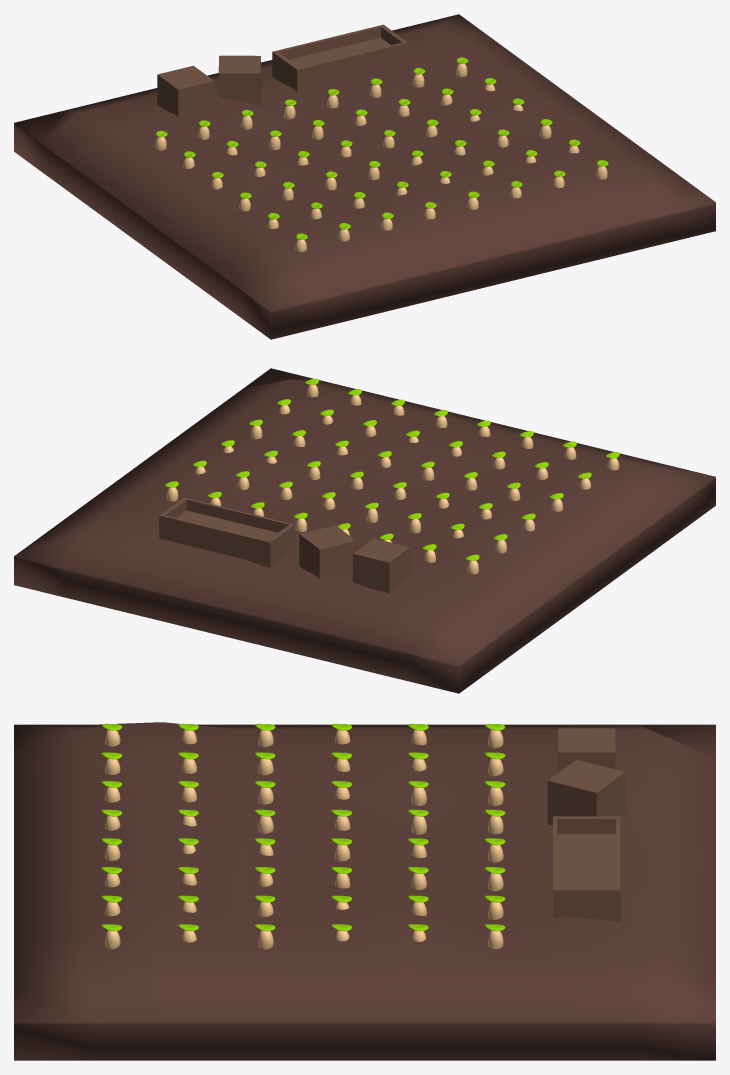
The model's file is ThePotatoFarm.fbx.
3 views of the same model, one above another, from view 1: azimuth 30°, elevation 25°; view 2: azimuth 150°, elevation 25°; view 3: azimuth 270°, elevation 25° (orthographic). The views are drawn at different scales.
Visible parts, largest first — view 1: Plane.017, Plane.006, Cube.007, Cube.005, Cube.006; view 2: Plane.017, Plane.006, Cube.007, Cube.005, Cube.006; view 3: Plane.017, Plane.006, Cube.007, Cube.006, Cube.005.
Part boxes in pixels (x1=…): Plane.017: x1=14, y1=14, x2=715, y2=339; Plane.006: x1=155, y1=57, x2=608, y2=251; Cube.007: x1=272, y1=24, x2=408, y2=91; Cube.005: x1=157, y1=65, x2=214, y2=116; Cube.006: x1=218, y1=55, x2=260, y2=105; Plane.017: x1=14, y1=368, x2=715, y2=693; Plane.006: x1=165, y1=378, x2=619, y2=574; Cube.007: x1=159, y1=497, x2=295, y2=567; Cube.005: x1=353, y1=538, x2=410, y2=593; Cube.006: x1=299, y1=525, x2=356, y2=578; Plane.017: x1=14, y1=722, x2=715, y2=1060; Plane.006: x1=101, y1=723, x2=505, y2=949; Cube.007: x1=553, y1=816, x2=620, y2=921; Cube.006: x1=547, y1=760, x2=625, y2=825; Cube.005: x1=558, y1=728, x2=615, y2=772.
Size of the model in its own units: 2457 by 412 by 2457.
